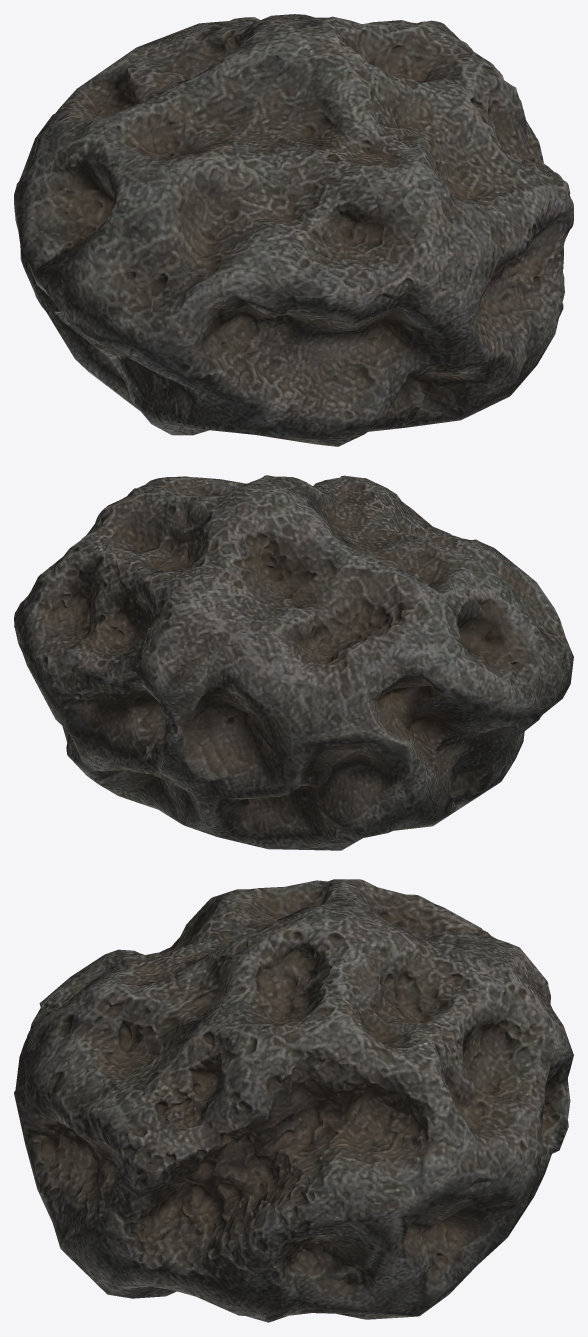
File: asteroid_common_2_lod1.glb
3 renders of one model, top to bottom at view 1: azimuth 30°, elevation 25°; view 2: azimuth 150°, elevation 25°; view 3: azimuth 270°, elevation 25°, orthographic. The views are drawn at different scales.
Visible parts, largest first — view 1: model; view 2: model; view 3: model.
Boxes of the visible parts, x1=… form: model: x1=14, y1=14, x2=573, y2=446; model: x1=14, y1=475, x2=573, y2=850; model: x1=14, y1=879, x2=573, y2=1322.
Bounding box in the file's own units: 1.89 × 1.25 × 1.73.
Materials: 1 (1 with a texture image).
